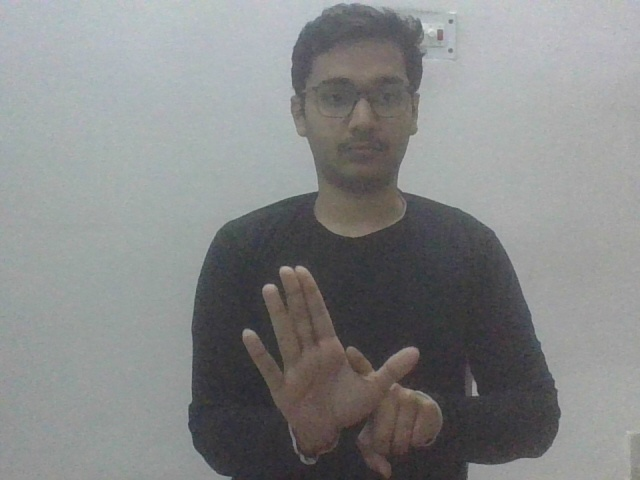Y: (244, 257, 457, 480)
